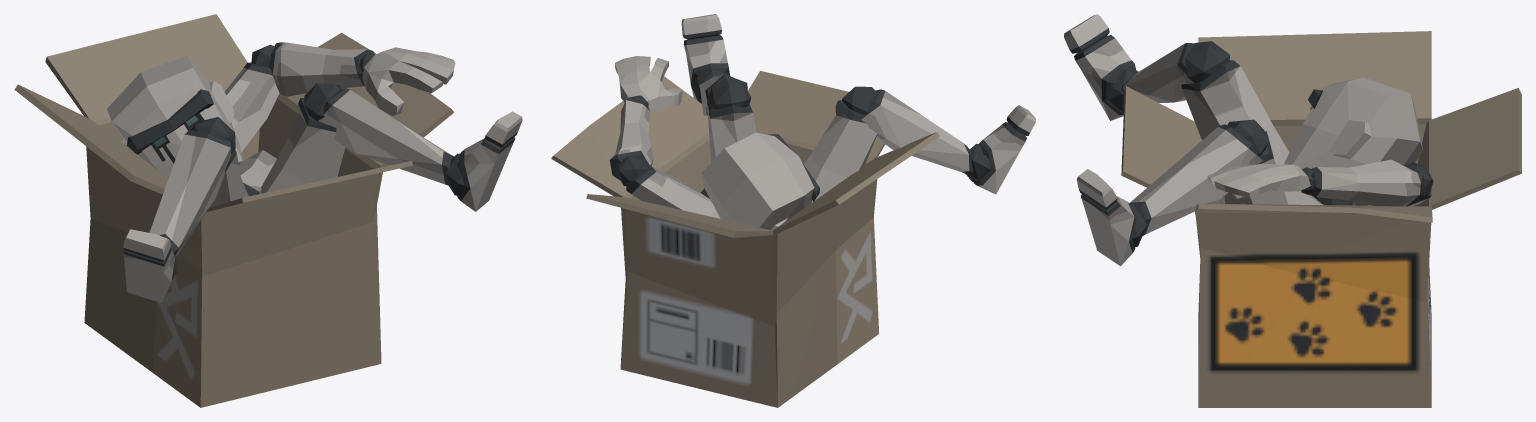
Rendered from cyber_SM_Prop_Cardboard_Box_05.gltf.
3 views of the same model, side by side, from view 1: azimuth 30°, elevation 25°; view 2: azimuth 150°, elevation 25°; view 3: azimuth 270°, elevation 25° (orthographic). The views are drawn at different scales.
Parts seen in each view (by area): view 1: SM_Prop_Cardboard_Box_05; view 2: SM_Prop_Cardboard_Box_05; view 3: SM_Prop_Cardboard_Box_05.
Boxes of the visible parts, x1,y1,x2,y2 form: SM_Prop_Cardboard_Box_05: (14,14,522,407); SM_Prop_Cardboard_Box_05: (551,14,1035,407); SM_Prop_Cardboard_Box_05: (1064,14,1521,407).
Bounding box in the file's own units: 1.04 × 0.6921 × 1.01.
Materials: 1 (1 with a texture image).
